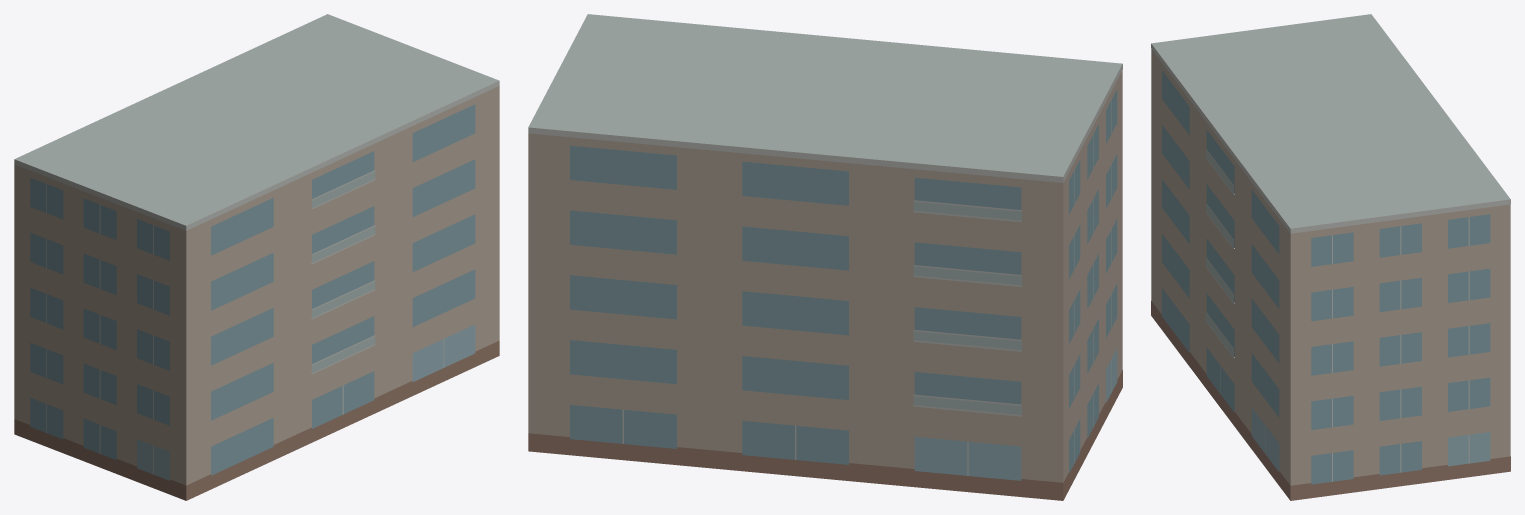
Rendered from survey-upis-32615598.glb.
3 renders of one model, left to right at view 1: azimuth 30°, elevation 25°; view 2: azimuth 150°, elevation 25°; view 3: azimuth 270°, elevation 25°, orthographic. The views are drawn at different scales.
Parts seen in each view (by area): view 1: survey-upis-32615598.tmp; view 2: survey-upis-32615598.tmp; view 3: survey-upis-32615598.tmp.
Boxes of the visible parts, x1,y1,x2,y2 form: survey-upis-32615598.tmp: (14, 14, 499, 500); survey-upis-32615598.tmp: (528, 14, 1122, 500); survey-upis-32615598.tmp: (1151, 14, 1510, 500).
Size of the model in its own units: 22.51 by 13.3 by 15.94.
